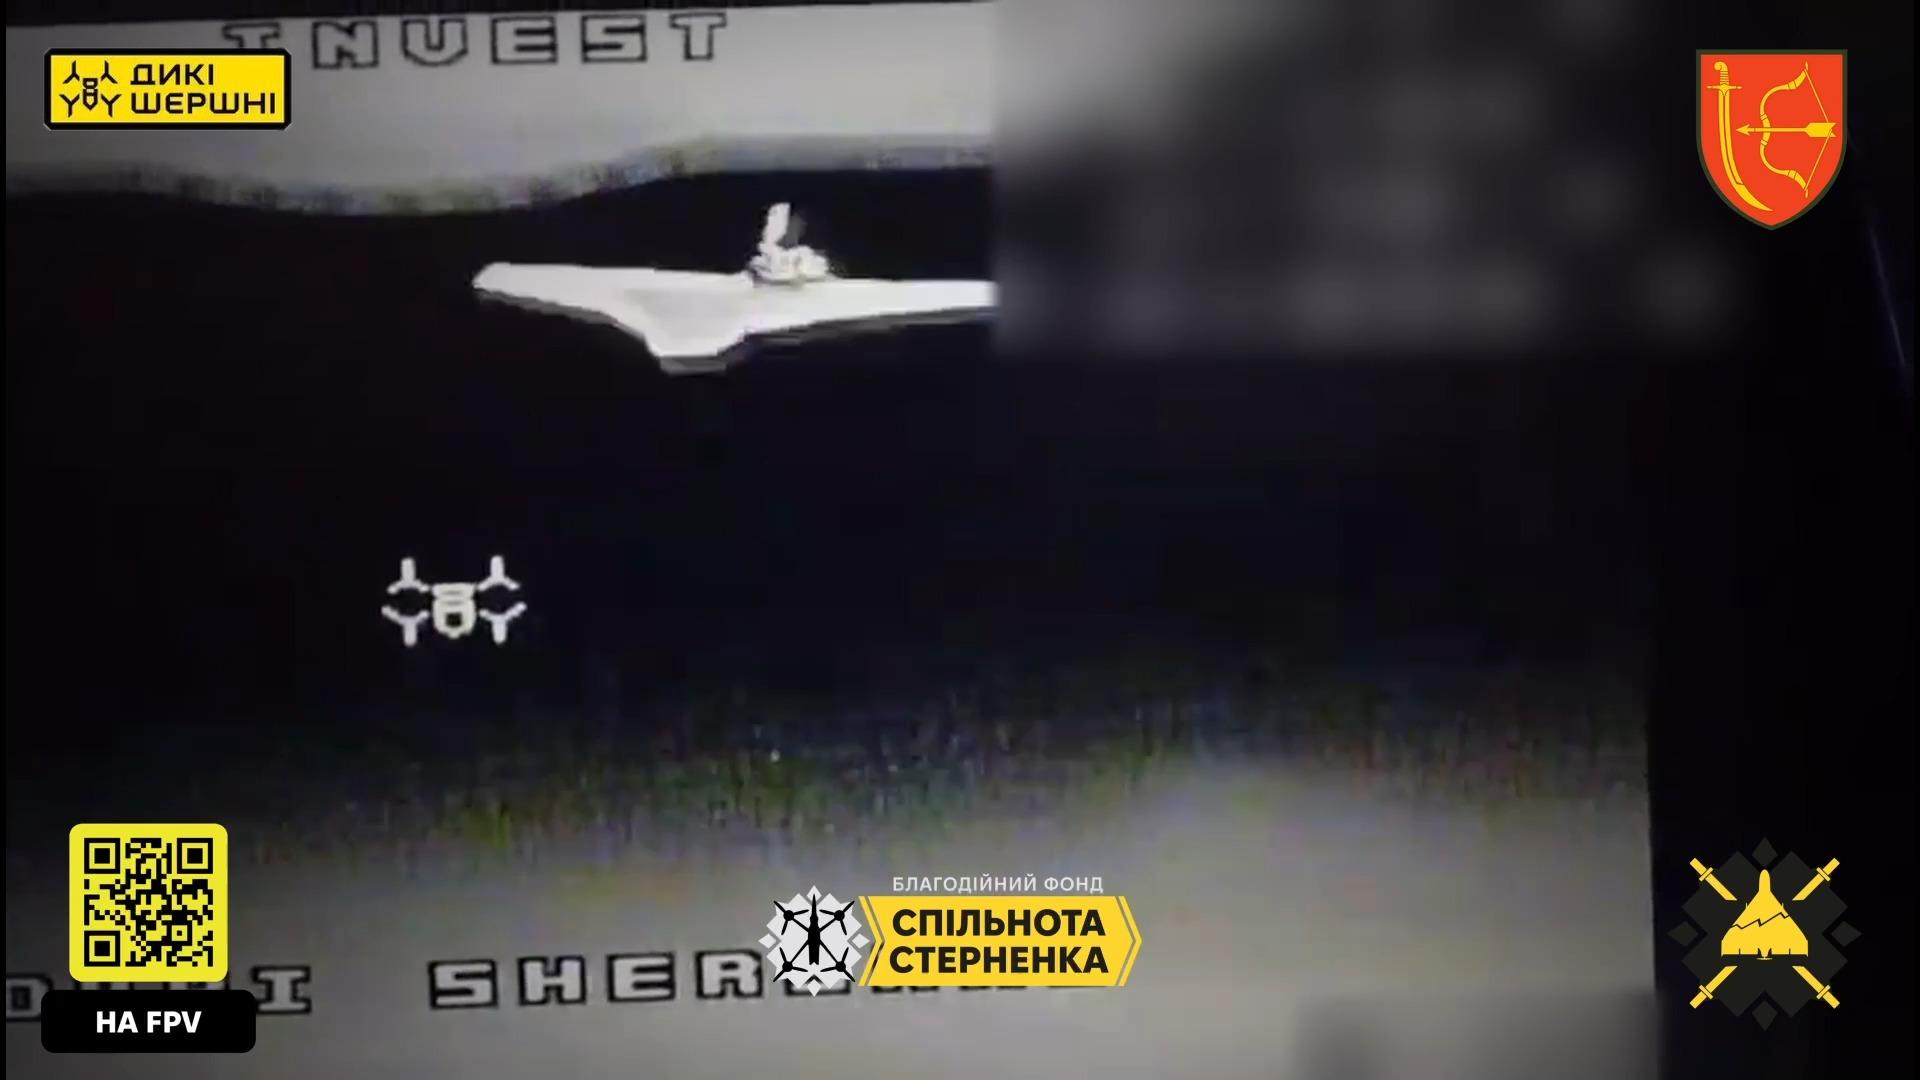Gerbera: (468, 199, 1004, 373)
